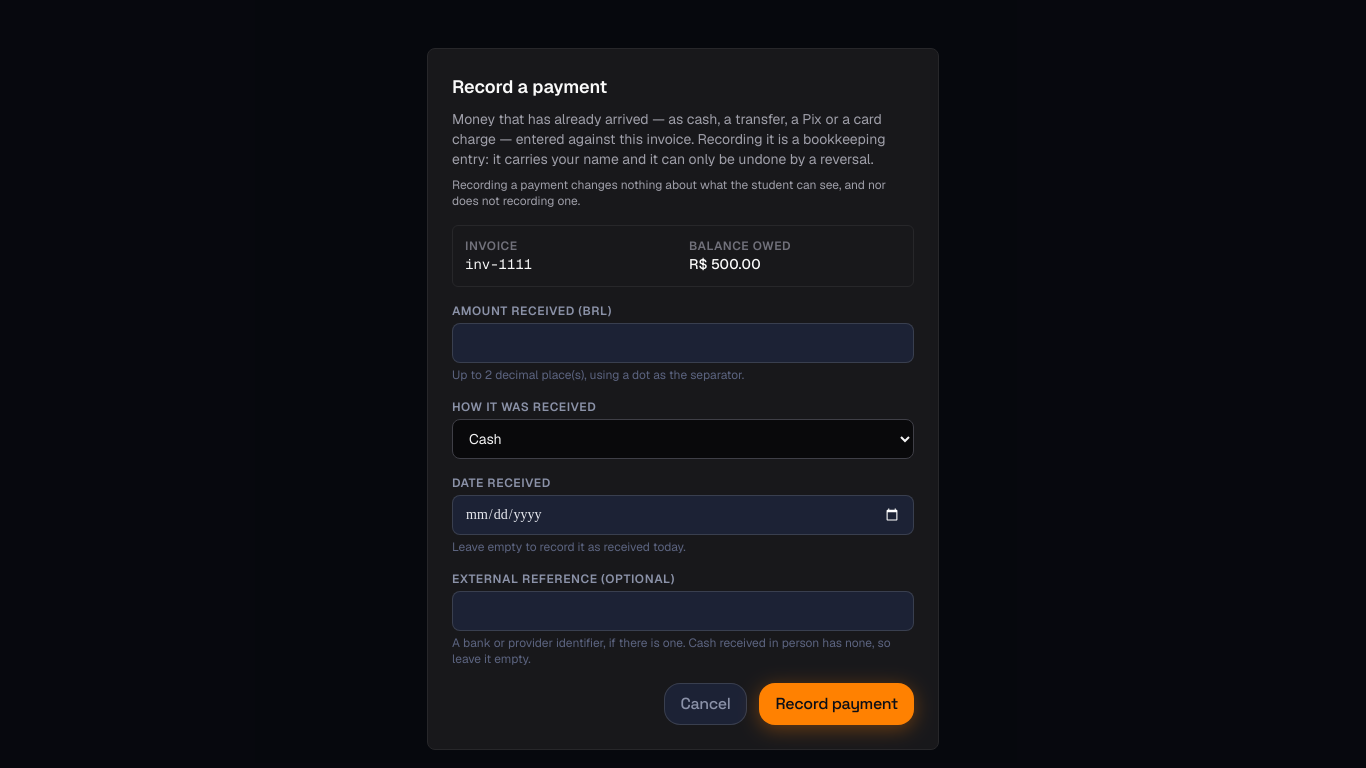
Test: PaymentForm › refuses a zero payment and points at the reversal instead
Type "0" into the field labelled "Amount received (BRL)" at (683, 343), box [452,323,914,363]
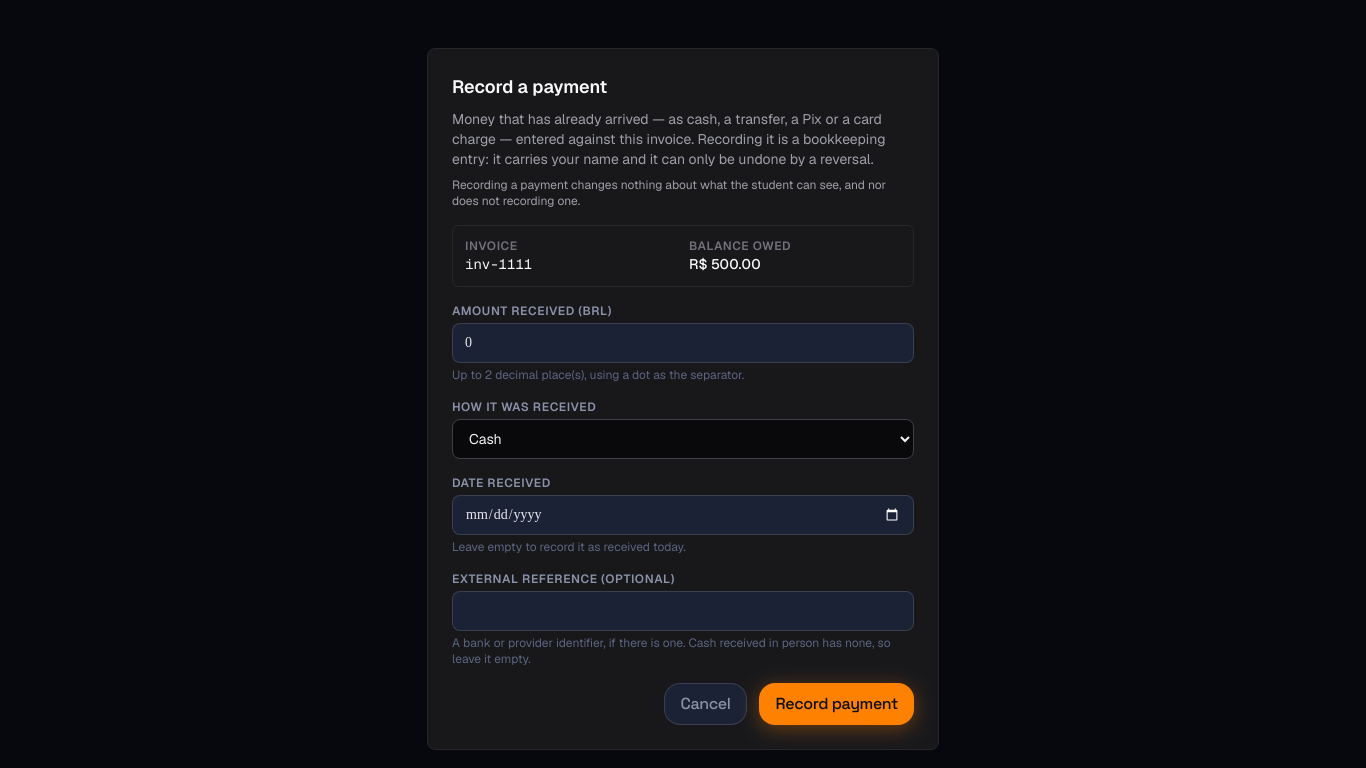
Click the button "Record payment" at (837, 704), box [760,683,914,725]
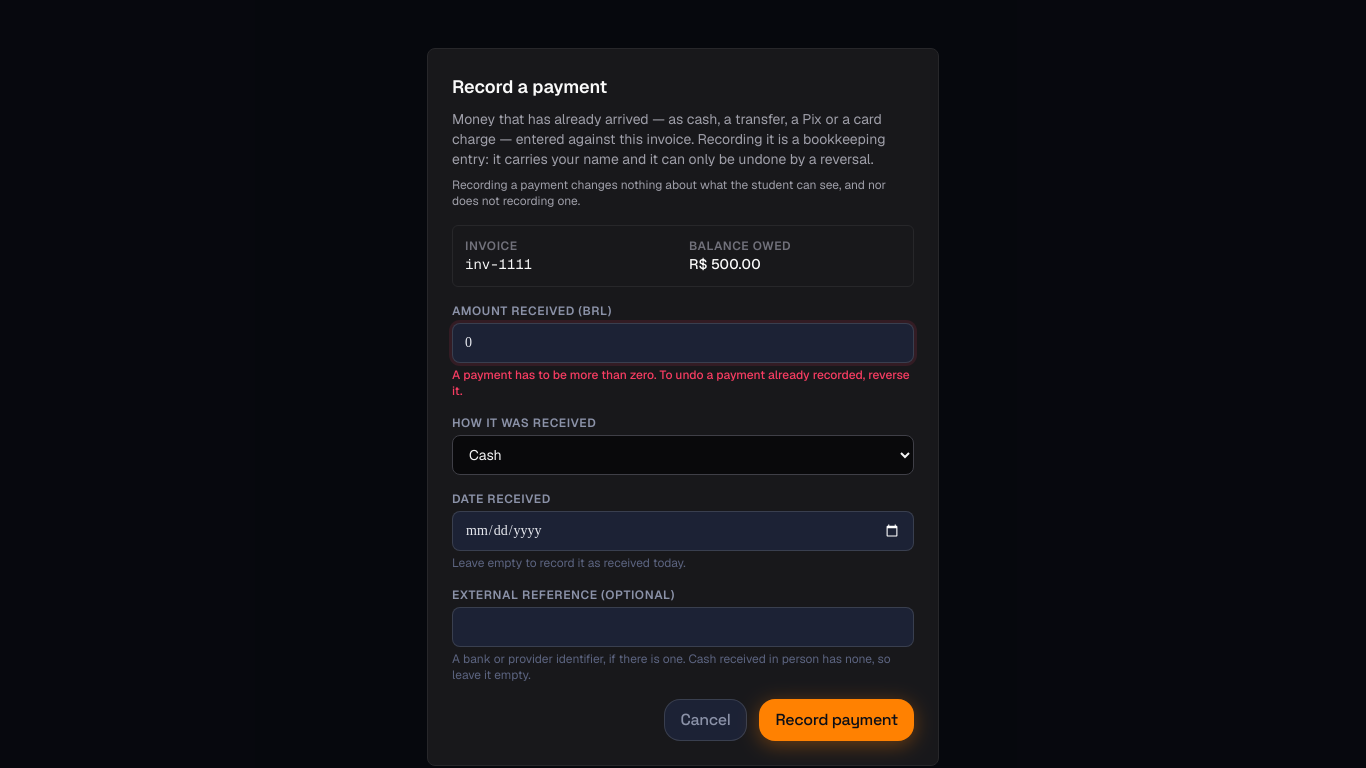
Expected: the text "A payment has to be more than zero. To undo a payment already recorded, reverse it." is shown, [452,367,910,399]
